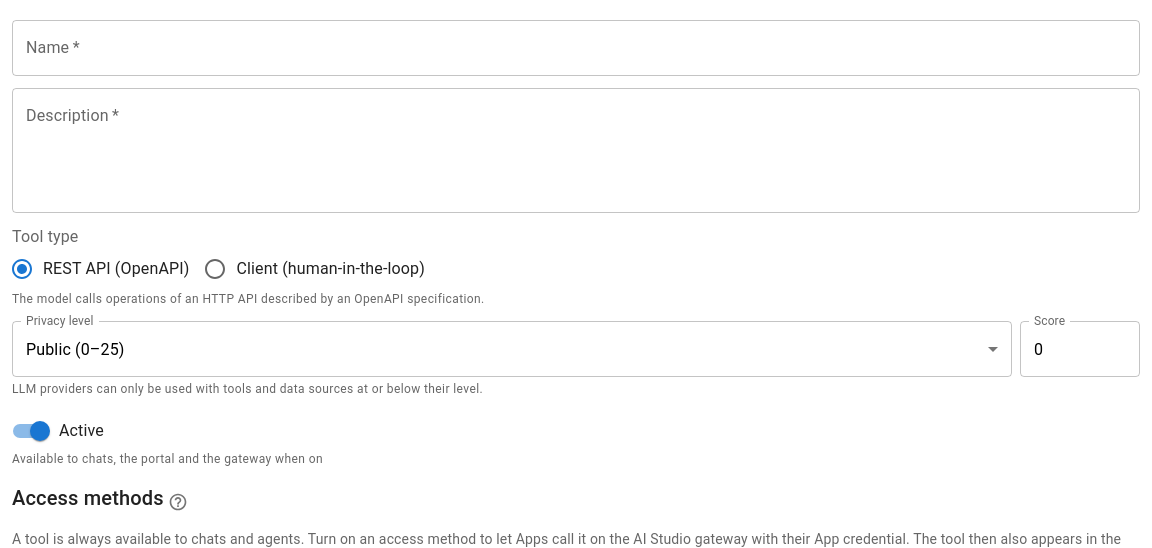
Test: ToolForm slug conflict › shows the conflict under the Name field and focuses it
Type "Page Fetcher" into the field labelled "Name *" at (576, 48), box 12,20 -> 1140,76
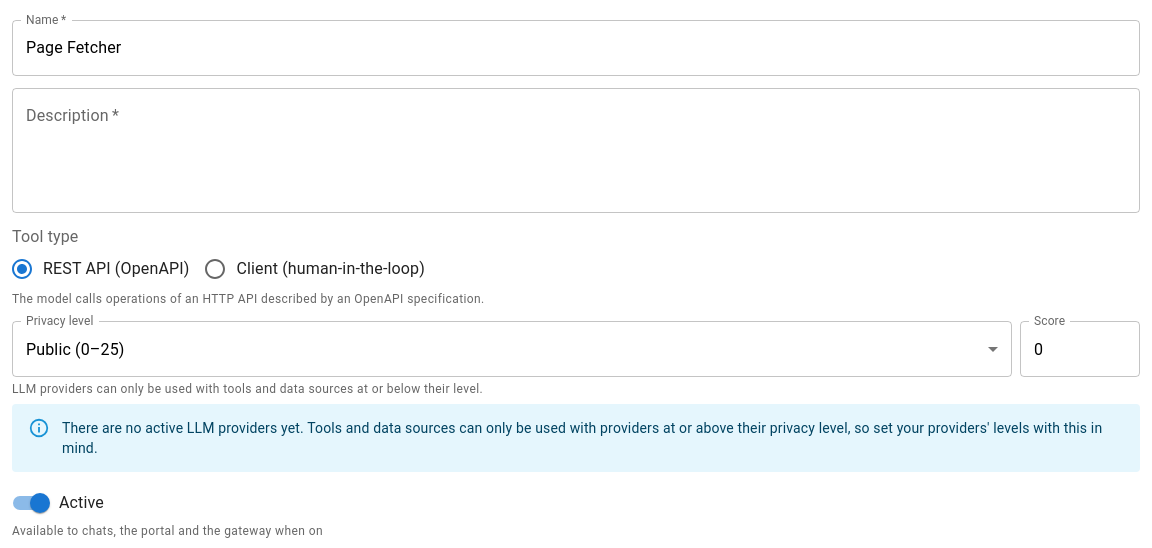
Type "Fetches pages" into the text box labelled "Description *" at (576, 150), box 26,104 -> 1126,196
(page scrolled)
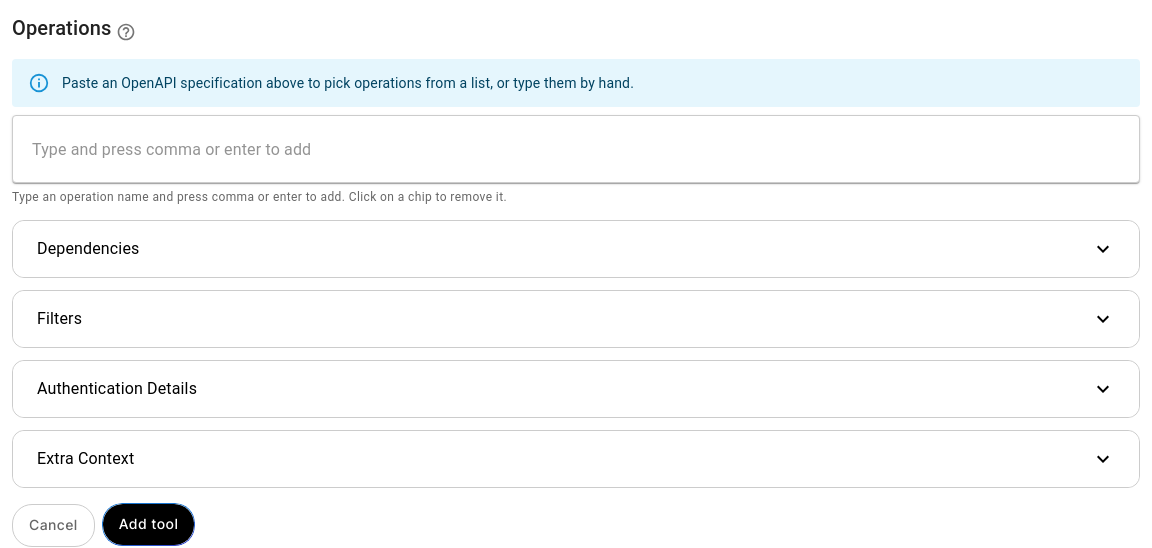
Click the button "Add tool" at (148, 524), box 103,504 -> 194,545
(page scrolled)
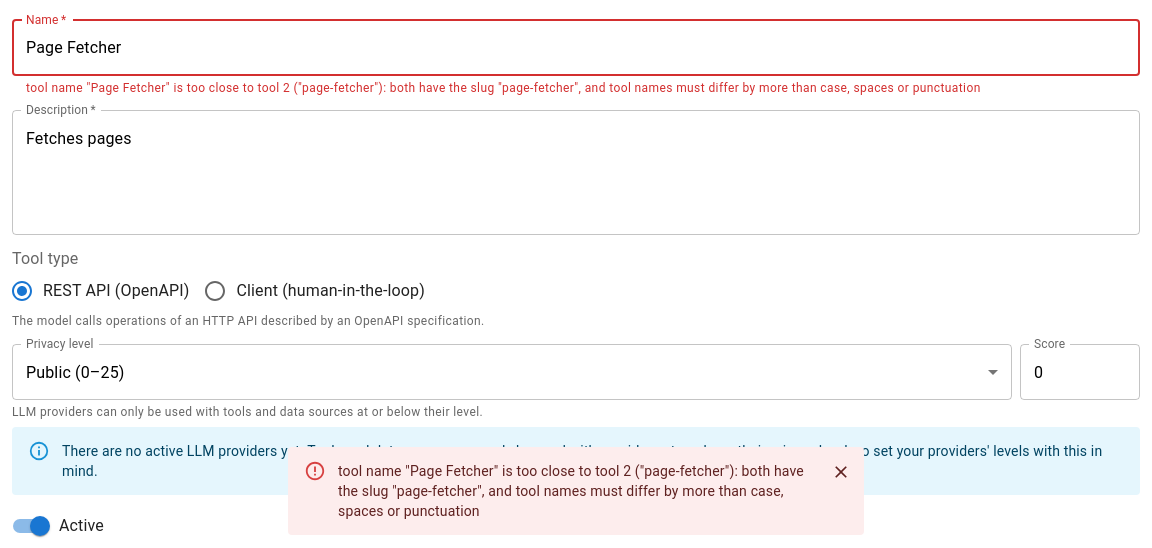
Expected: the text "tool name \"Page Fetcher\" is too close to tool 2 (\"page-fetcher\"): both have the slug \"page-fetcher\", and tool names must" below "Tool Information" is shown, 26,80 -> 981,94
